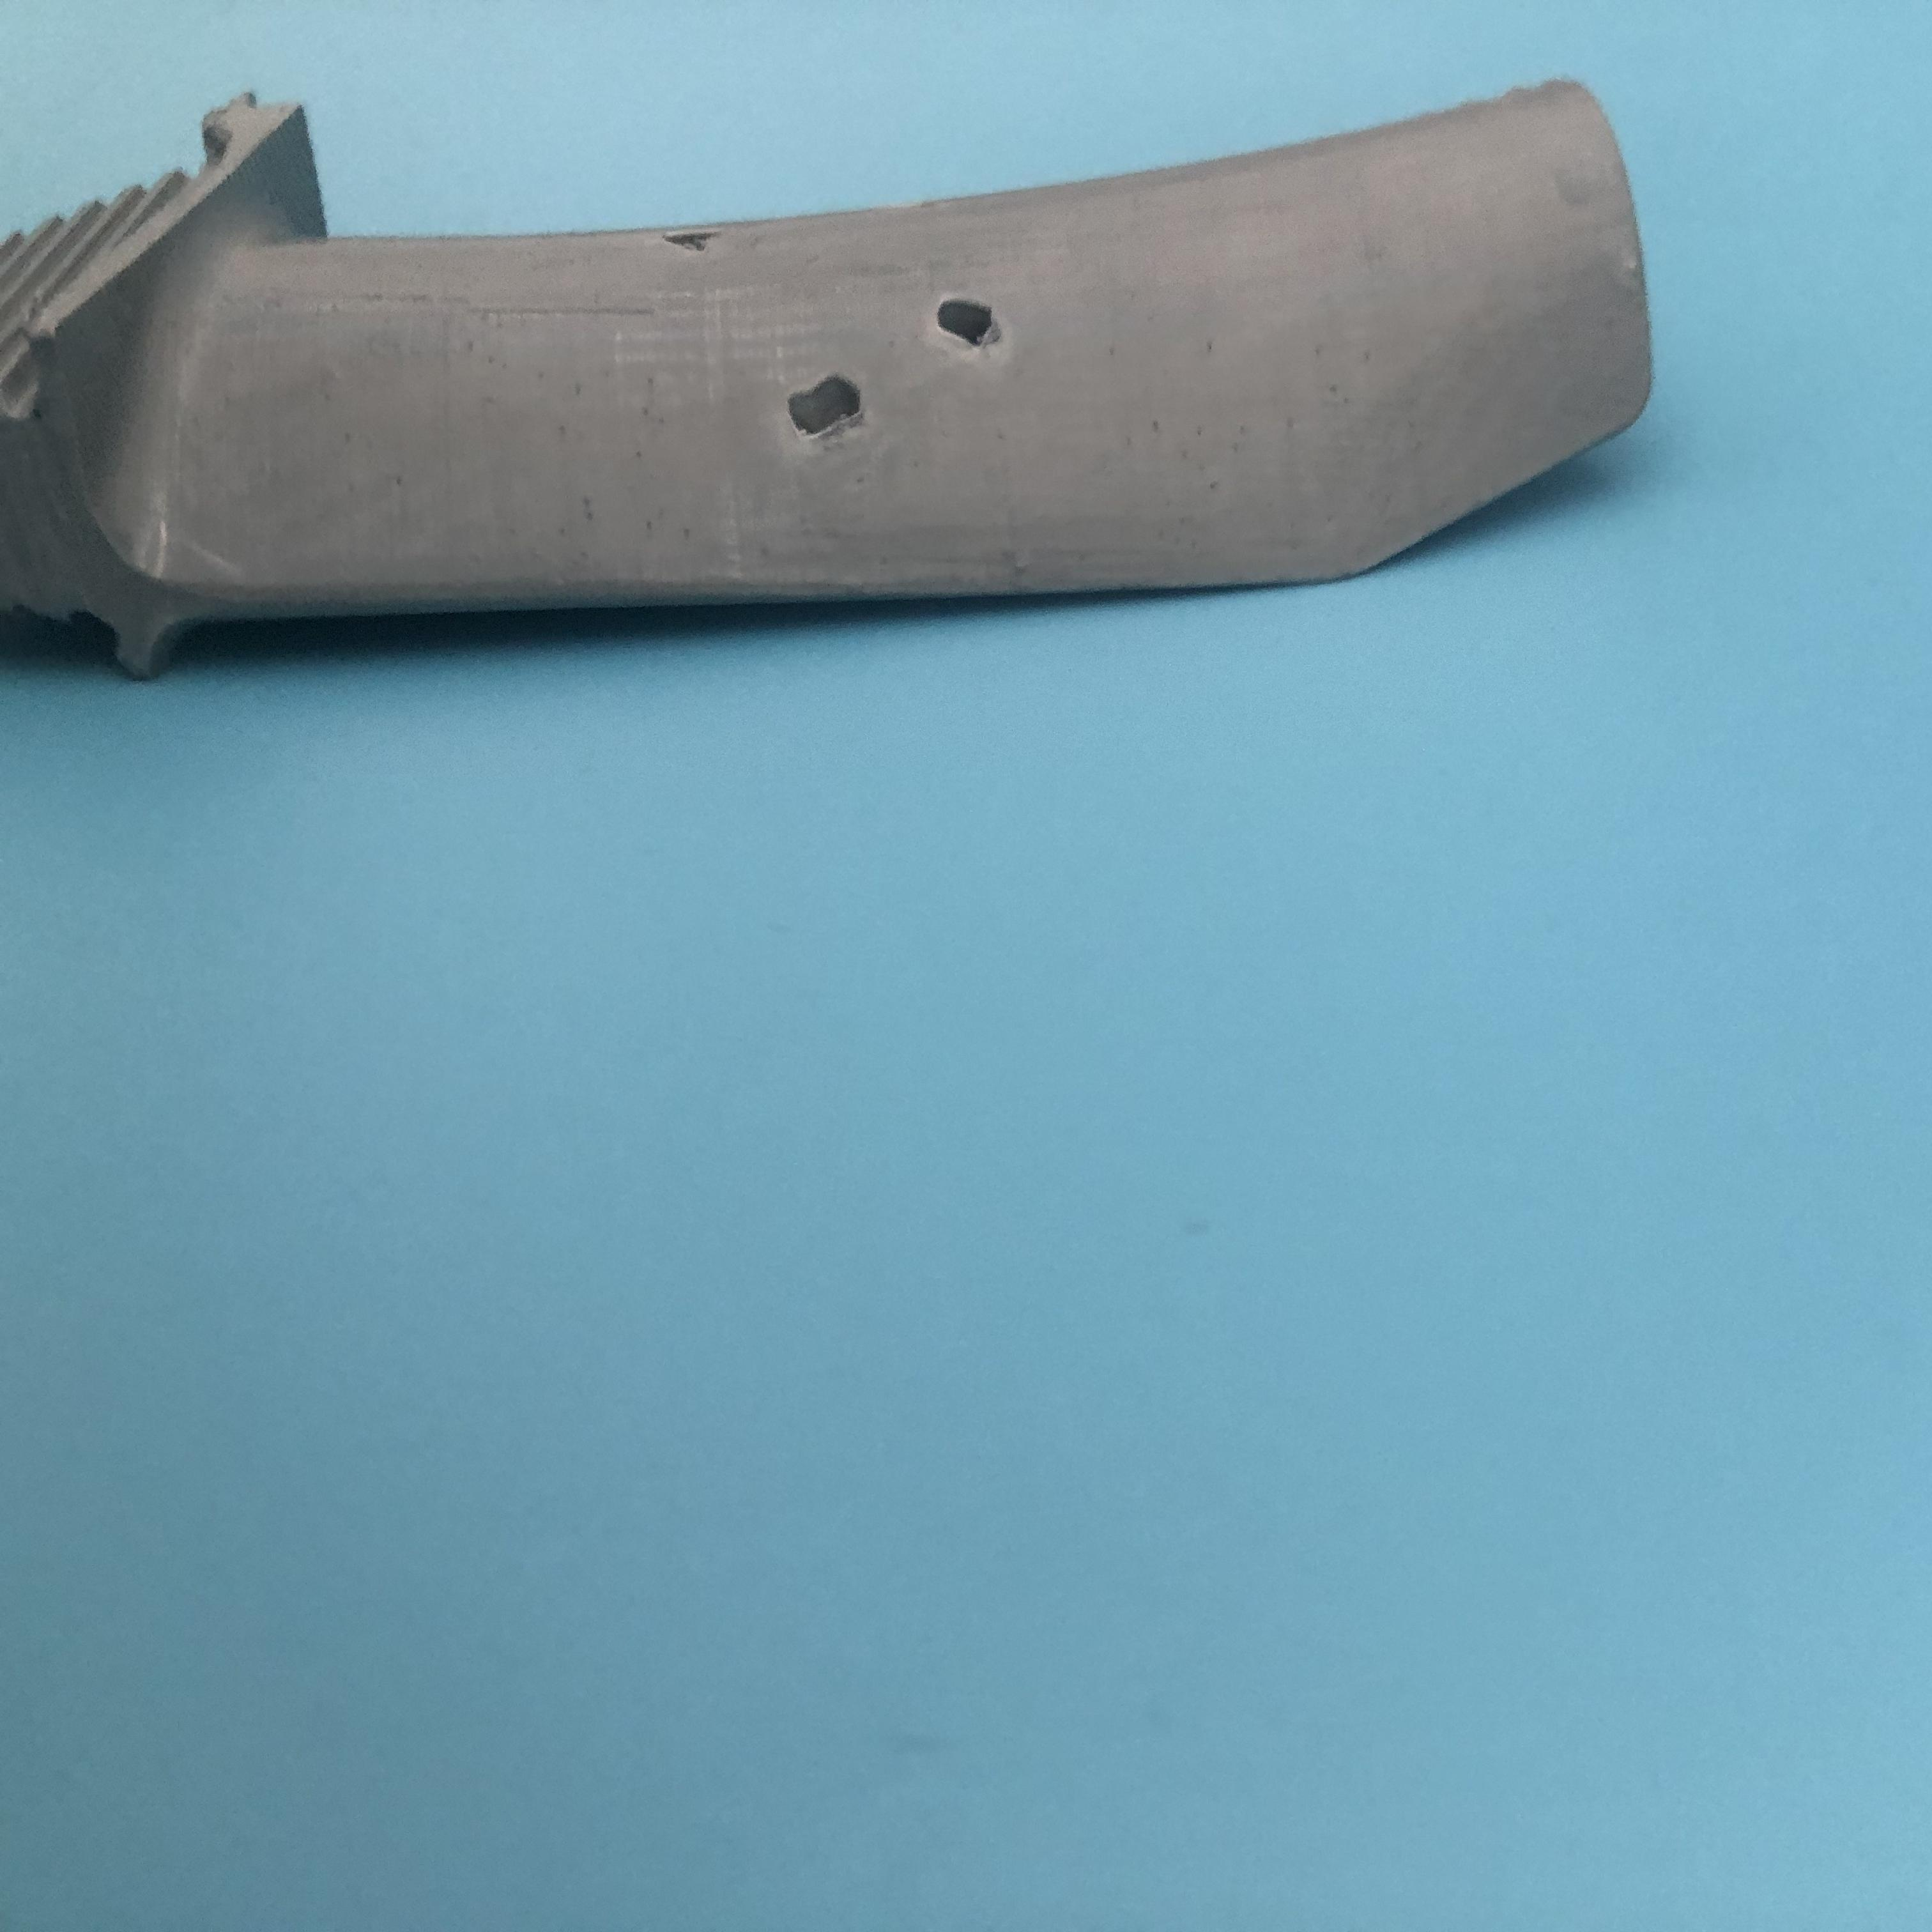breakdown: (791, 301, 1023, 439), (663, 230, 757, 272)
